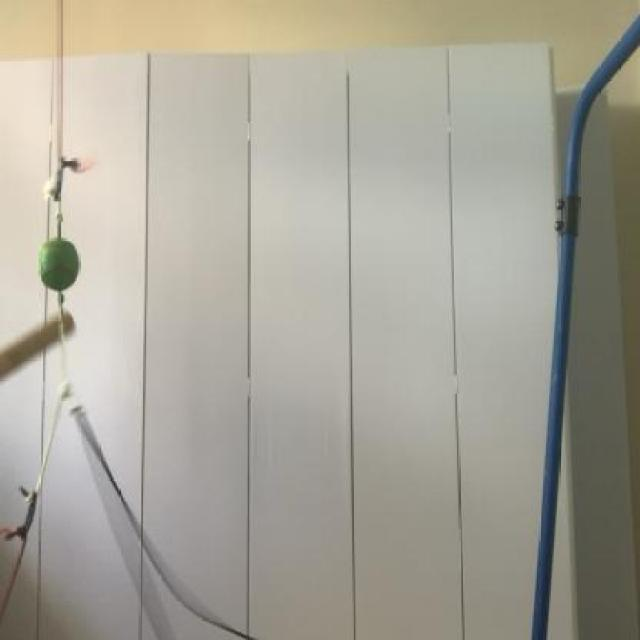baseball: (35, 232, 82, 293)
